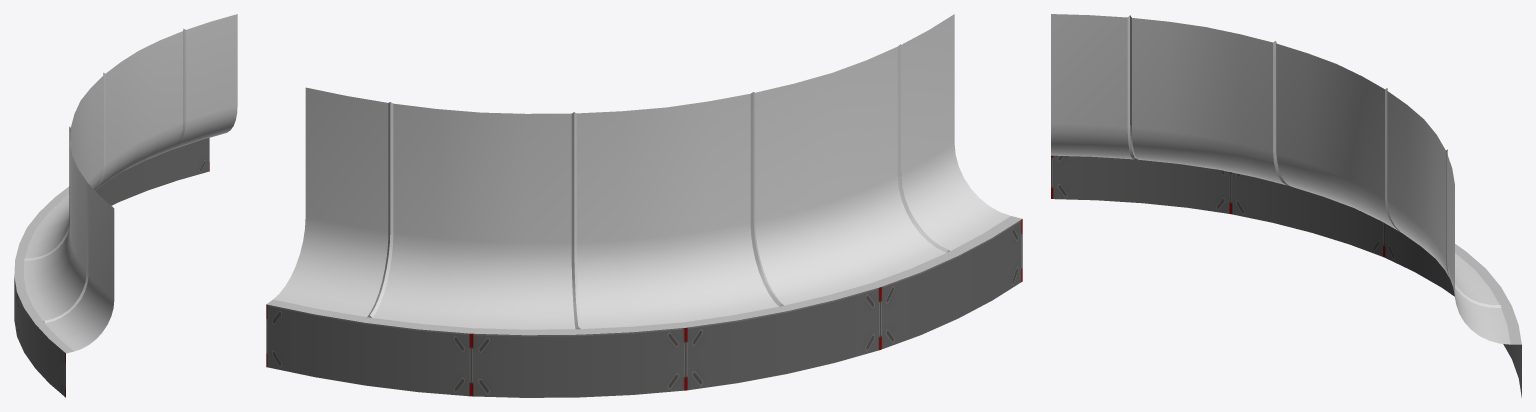
Rendered from TopPlastic_Corner_Round_Inner.gltf.
3 renders of one model, left to right at view 1: azimuth 30°, elevation 25°; view 2: azimuth 150°, elevation 25°; view 3: azimuth 270°, elevation 25°, orthographic. The views are drawn at different scales.
Visible parts, largest first — view 1: TopPlastic_Corner_Round_Inner; view 2: TopPlastic_Corner_Round_Inner; view 3: TopPlastic_Corner_Round_Inner.
Part boxes in pixels (x1=…): TopPlastic_Corner_Round_Inner: x1=14, y1=14, x2=237, y2=397; TopPlastic_Corner_Round_Inner: x1=266, y1=14, x2=1022, y2=397; TopPlastic_Corner_Round_Inner: x1=1051, y1=14, x2=1521, y2=397.
Bounding box in the file's own units: 4 × 2.02 × 4.
Materials: 3 (2 with a texture image).
